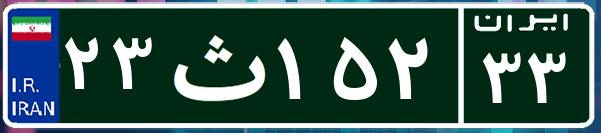1: (273, 28, 330, 110)
2: (385, 28, 445, 110), (57, 26, 110, 107)
3: (475, 38, 525, 113), (110, 28, 158, 105), (525, 38, 570, 115)
5: (330, 28, 385, 110)
ث: (158, 15, 273, 115)
